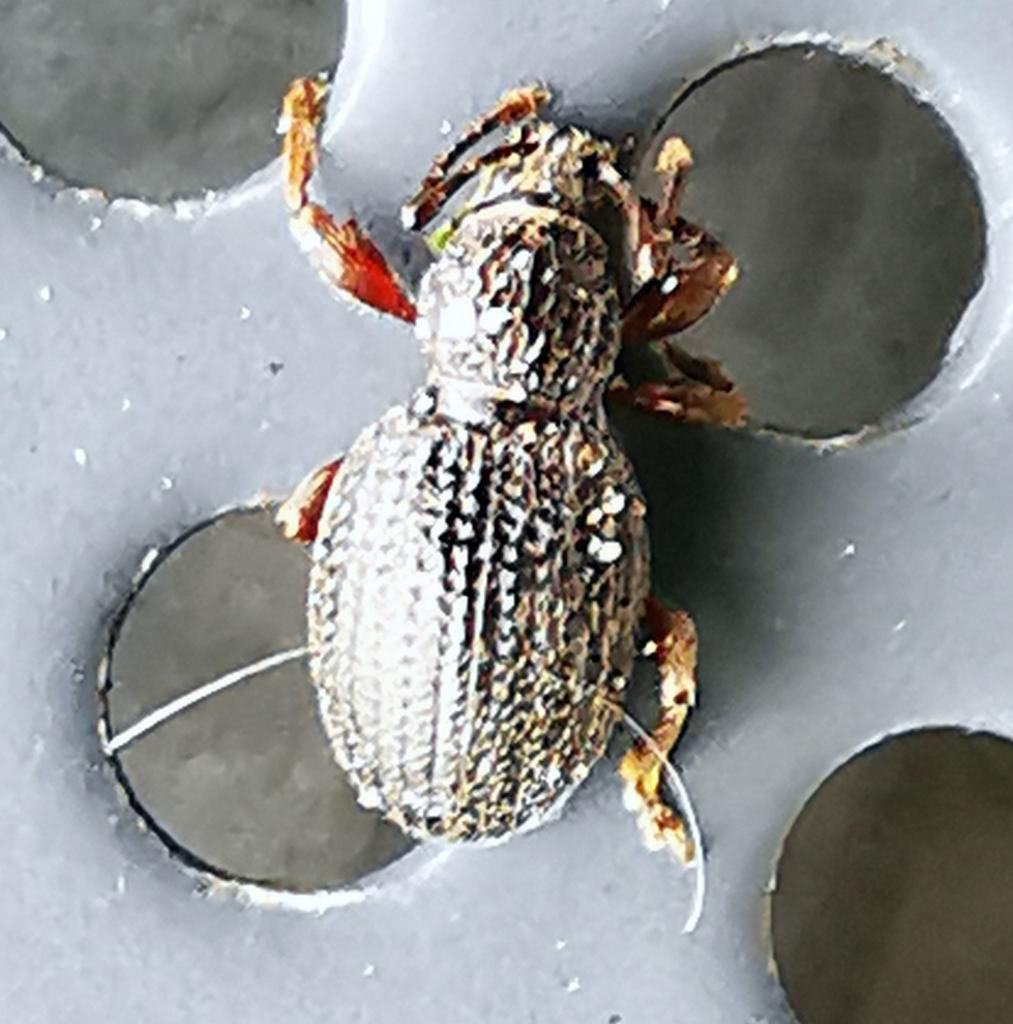weevils: (179, 4, 826, 947)
